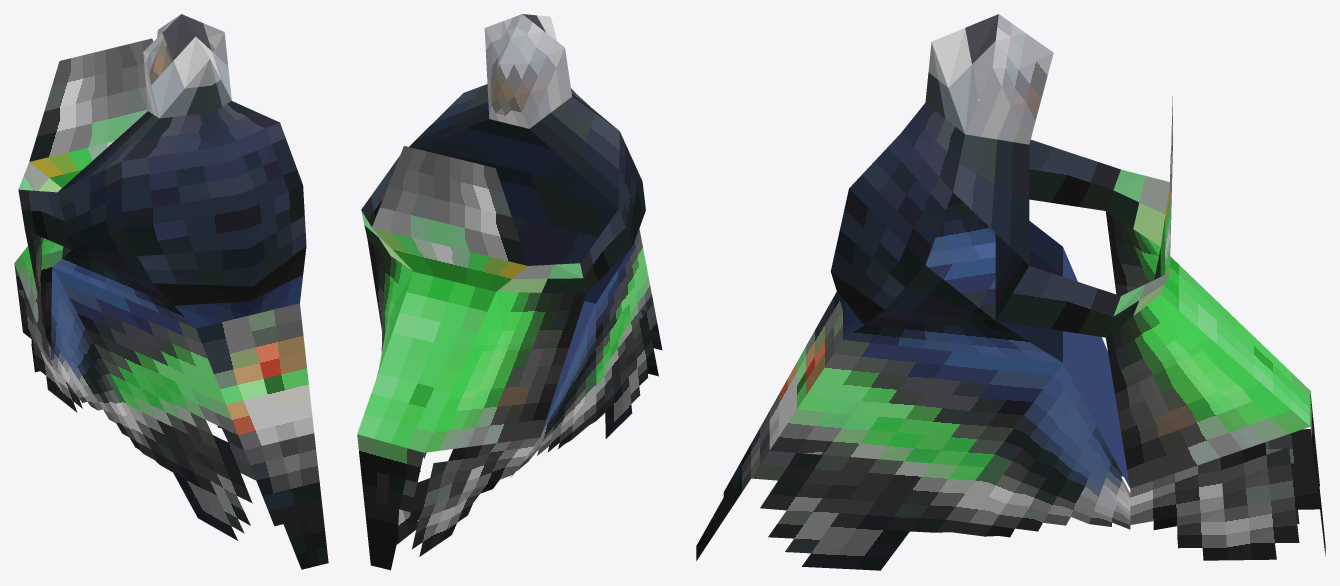
The model's file is car-scooter.glb.
The picture shows the model from 3 angles, left to right: view 1: azimuth 30°, elevation 25°; view 2: azimuth 150°, elevation 25°; view 3: azimuth 270°, elevation 25°; orthographic projection. The views are drawn at different scales.
Visible parts, largest first — view 1: car-scooter; view 2: car-scooter; view 3: car-scooter.
Boxes of the visible parts, x1,y1,x2,y2 form: car-scooter: (14, 14, 328, 569); car-scooter: (357, 14, 662, 570); car-scooter: (696, 14, 1325, 570).
Size of the model in its own units: 0.7656 by 1.52 by 1.61.
Materials: 29 (29 with a texture image).
